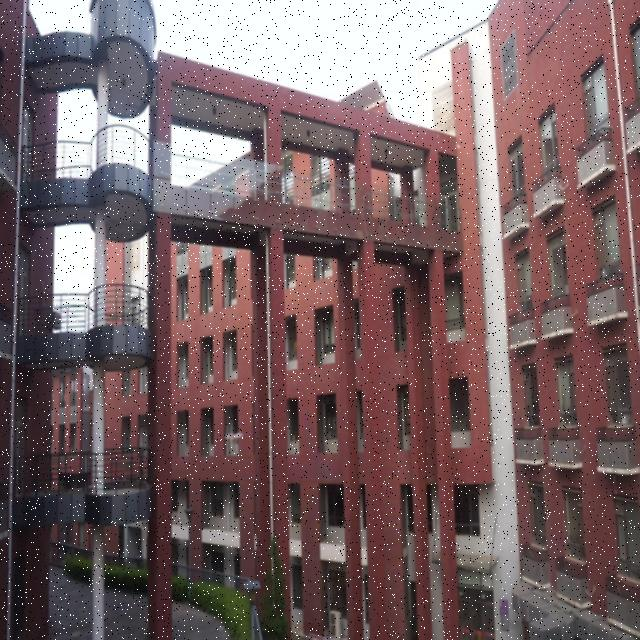UAV: (225, 432, 243, 448)
